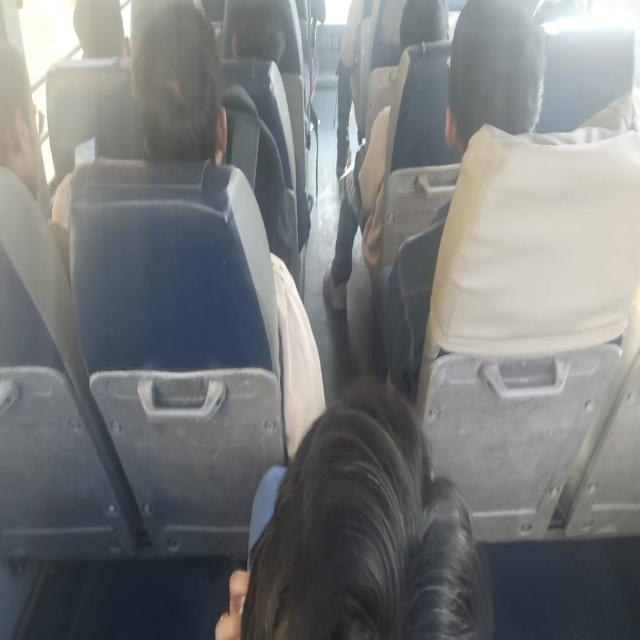person: (130, 0, 326, 458), (214, 377, 493, 638), (371, 0, 546, 403), (322, 0, 450, 312), (0, 41, 89, 391), (130, 1, 228, 164)
